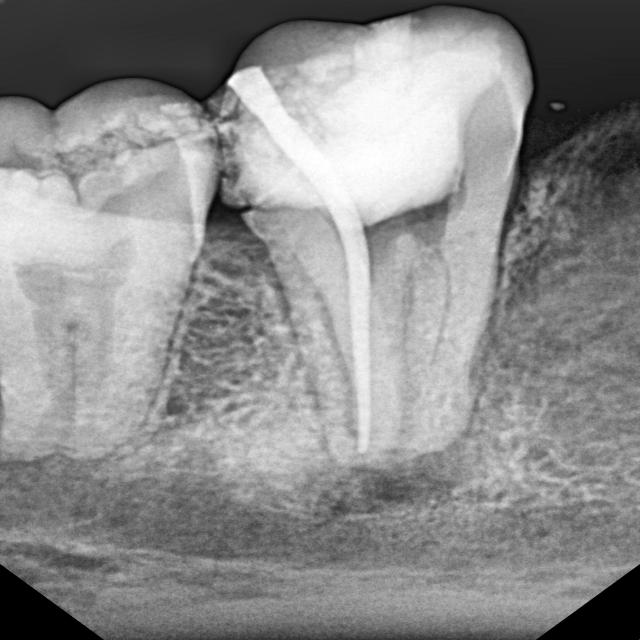RCT: (229, 67, 402, 487)
